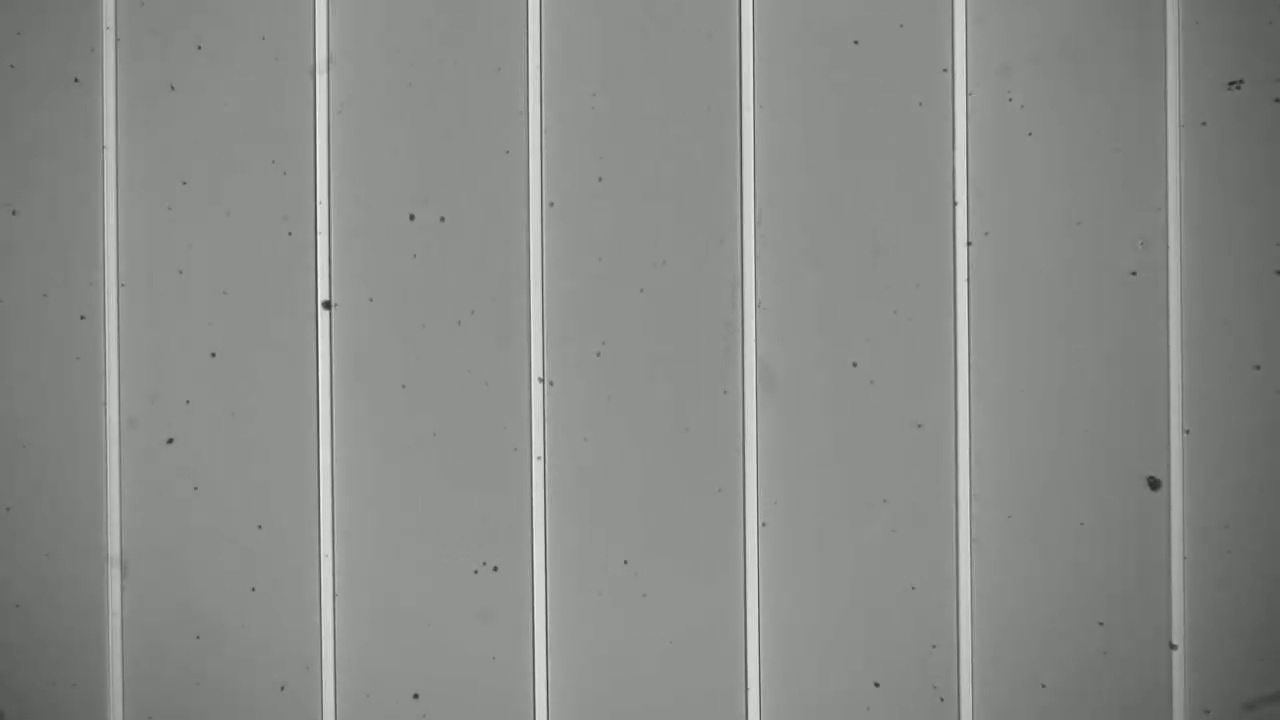stains_enbedded: (311, 294, 339, 317)
